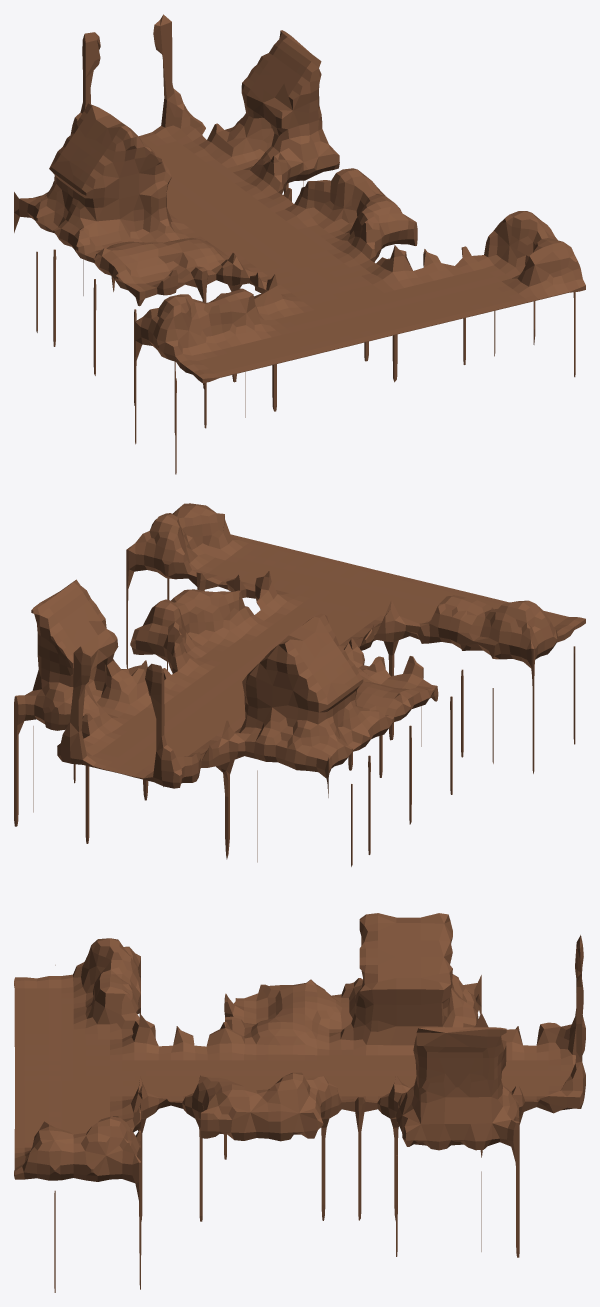
Rendered from Port1-1.glb.
The picture shows the model from 3 angles, top to bottom: view 1: azimuth 30°, elevation 25°; view 2: azimuth 150°, elevation 25°; view 3: azimuth 270°, elevation 25°; orthographic projection. The views are drawn at different scales.
Parts seen in each view (by area): view 1: Chair.001; view 2: Chair.001; view 3: Chair.001.
Boxes of the visible parts, x1=… form: Chair.001: x1=14, y1=14, x2=585, y2=474; Chair.001: x1=14, y1=503, x2=585, y2=866; Chair.001: x1=14, y1=913, x2=585, y2=1292.
Bounding box in the file's own units: 24.04 × 12.7 × 28.17.
